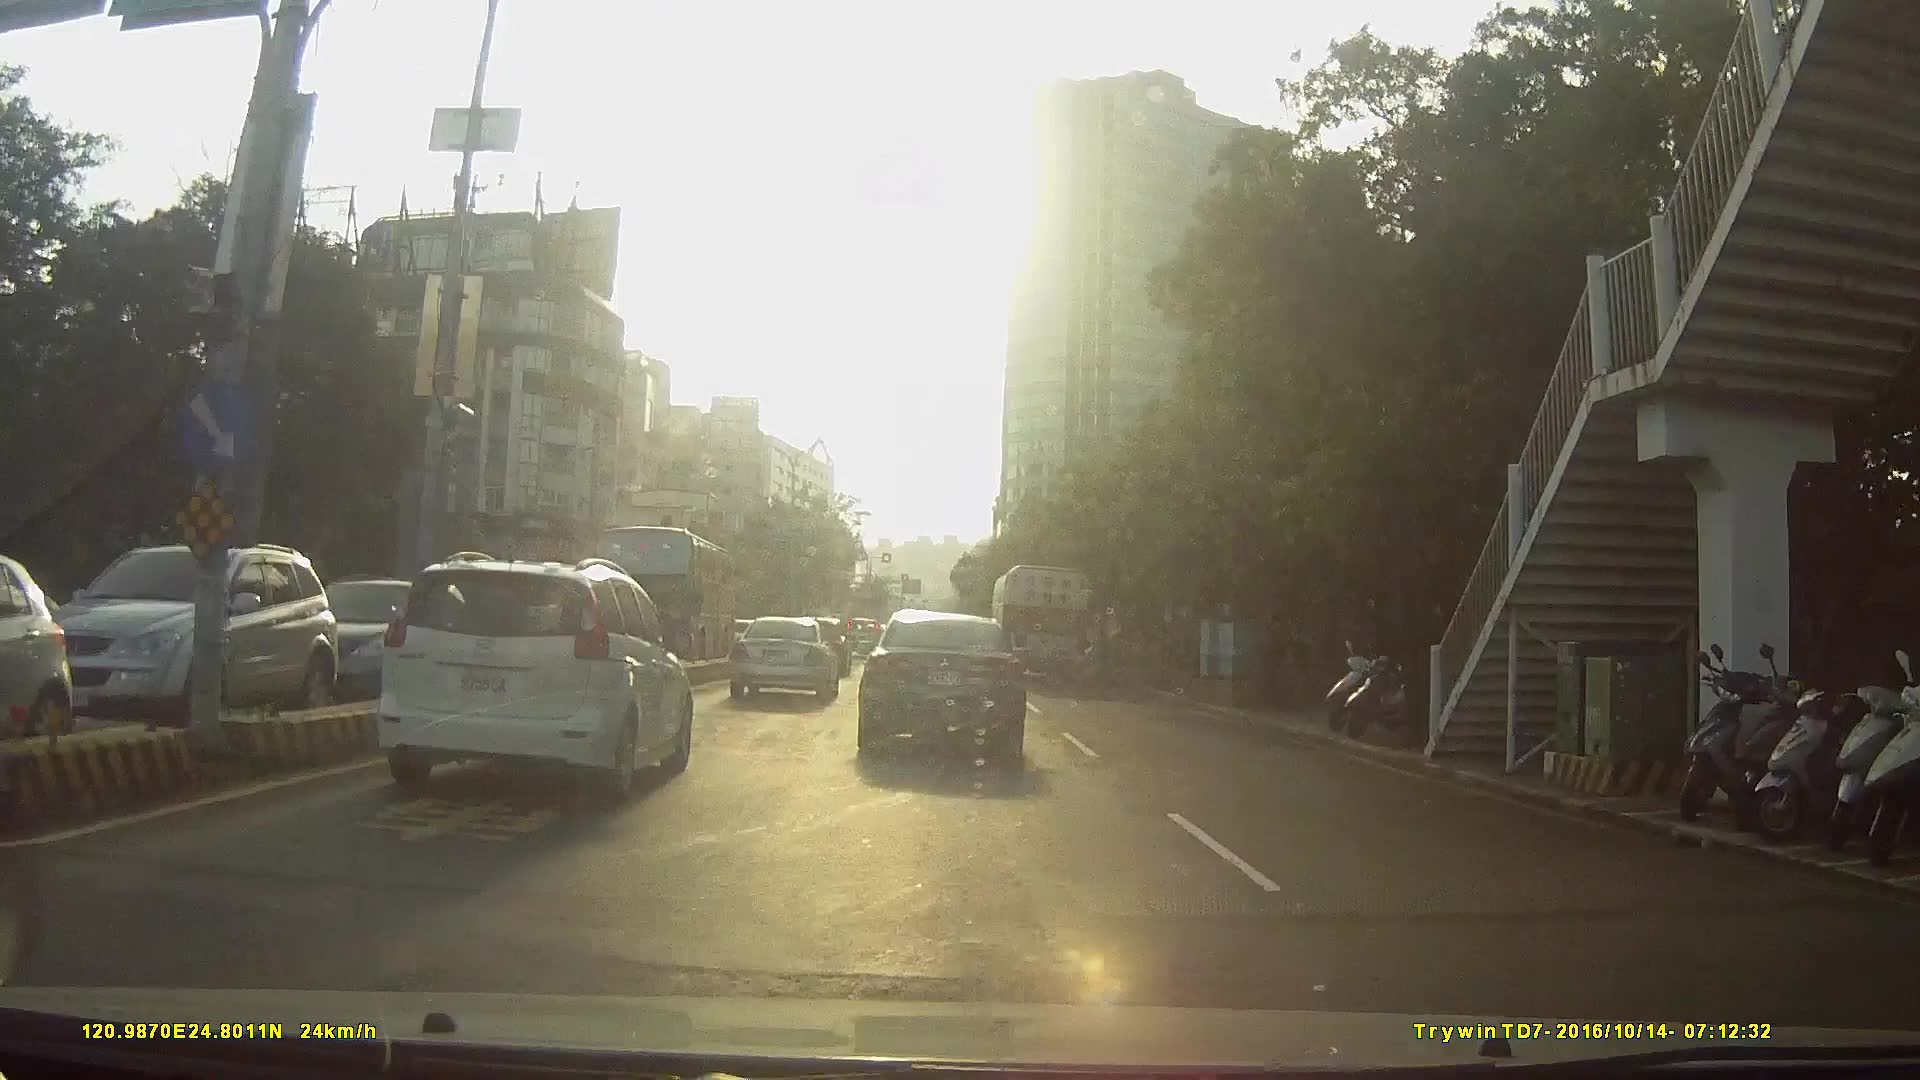vehicle: (251, 556, 684, 868), (378, 546, 694, 798), (50, 527, 353, 733), (856, 599, 1027, 767), (274, 570, 473, 694), (587, 520, 732, 662), (989, 556, 1095, 684), (729, 613, 837, 705), (841, 611, 887, 654)
